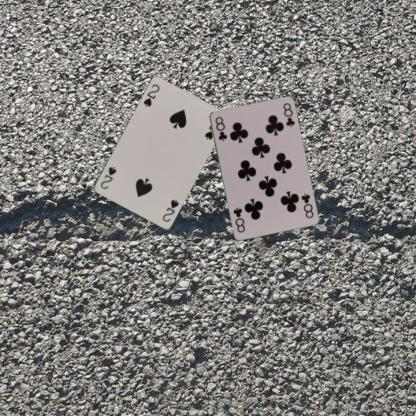2s: (160, 197, 180, 224), (141, 82, 161, 108)
8c: (298, 191, 314, 220), (213, 114, 228, 142)
